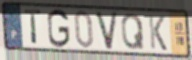0: (73, 9, 94, 50)
G: (46, 8, 71, 50)
K: (147, 13, 168, 52)
Q: (121, 12, 146, 51)
T: (23, 8, 43, 46)
V: (95, 11, 119, 51)
